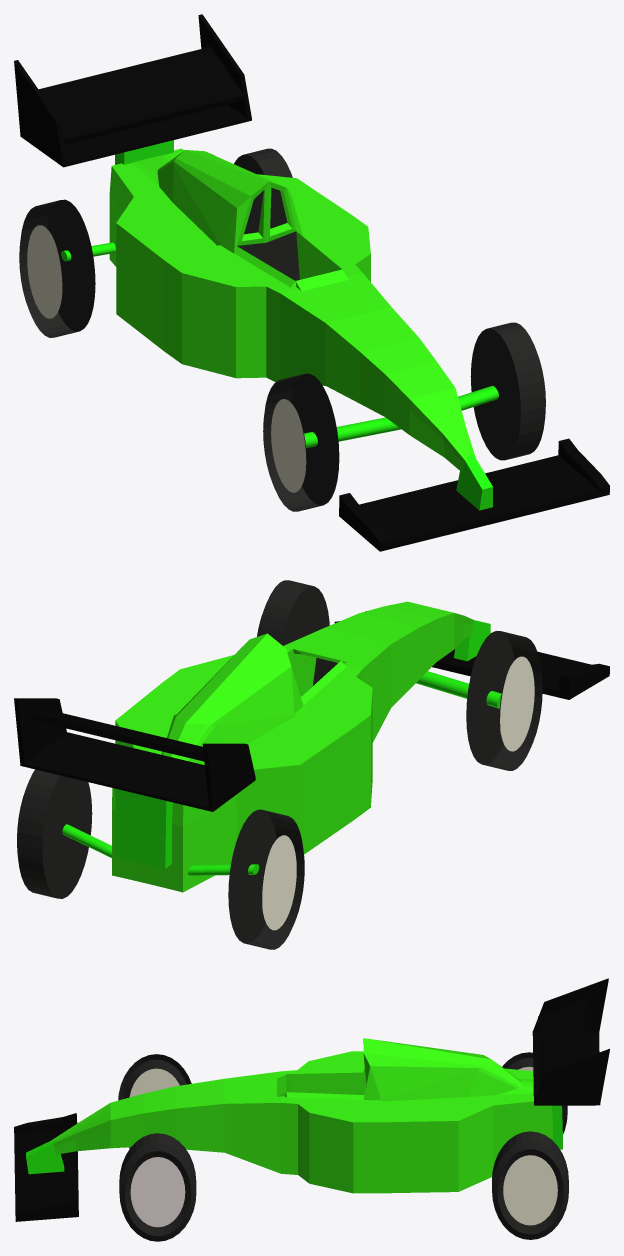
The picture shows the model from 3 angles, top to bottom: view 1: azimuth 30°, elevation 25°; view 2: azimuth 150°, elevation 25°; view 3: azimuth 270°, elevation 25°; orthographic projection. The views are drawn at different scales.
Parts seen in each view (by area): view 1: Cube.002; view 2: Cube.002; view 3: Cube.002.
Boxes of the visible parts, x1,y1,x2,y2 form: Cube.002: [14, 14, 609, 551]; Cube.002: [14, 580, 609, 949]; Cube.002: [14, 978, 609, 1241].
Bounding box in the file's own units: 4.04 × 3.65 × 10.89.
